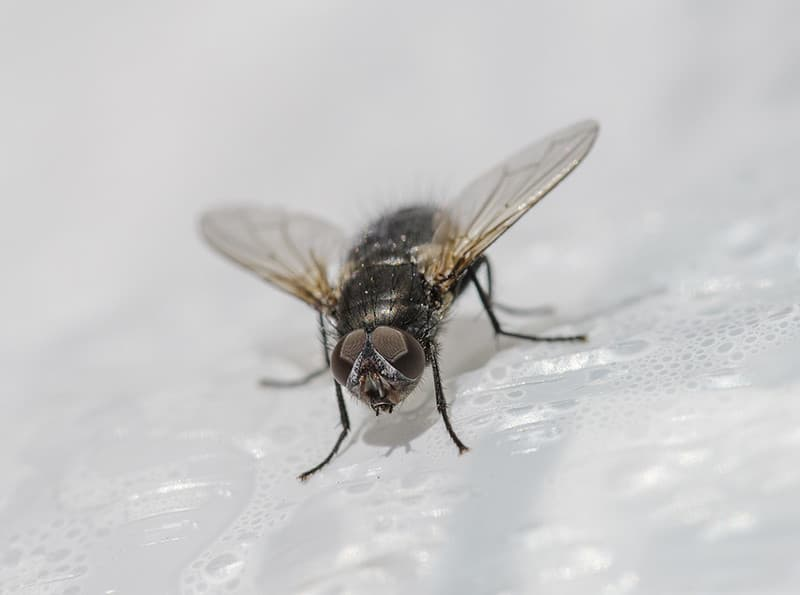fly: (174, 113, 633, 497)
